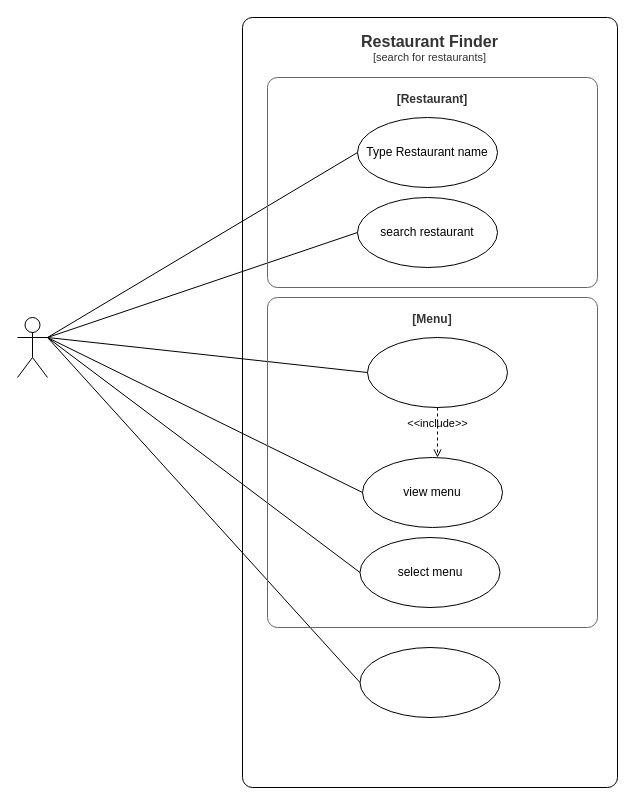
Image size: 635x805. Some labels were removed from this diagram. Here are the shapes that lost their labels. From the top down, the centre of each, then its label:
At (x=32, y=347): "User".
At (x=437, y=372): "get menu".
At (x=429, y=682): "get cost".
